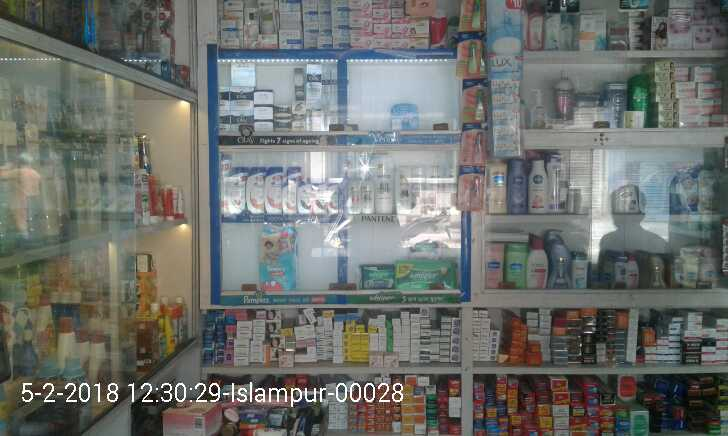venus: (391, 103, 418, 131)
